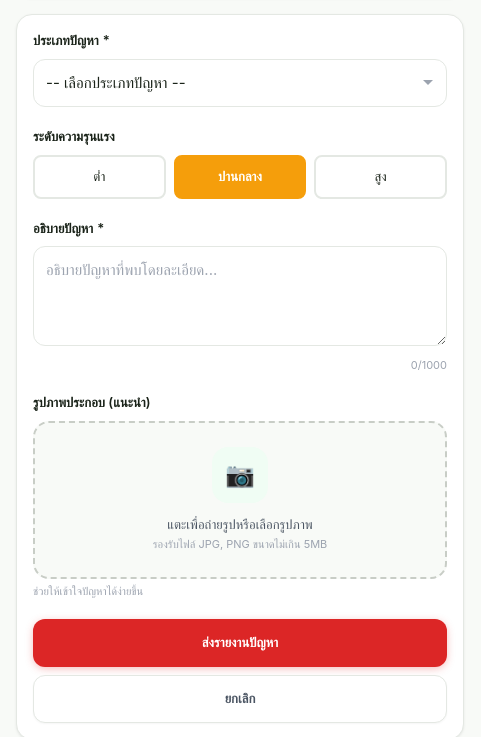
Scenario: ProblemReport › form validation › shows error when submitting without problem type
(page scrolled)
Click the button "ส่งรายงานปัญหา".
click(240, 643)  # box x1=33 y1=619 x2=447 y2=667
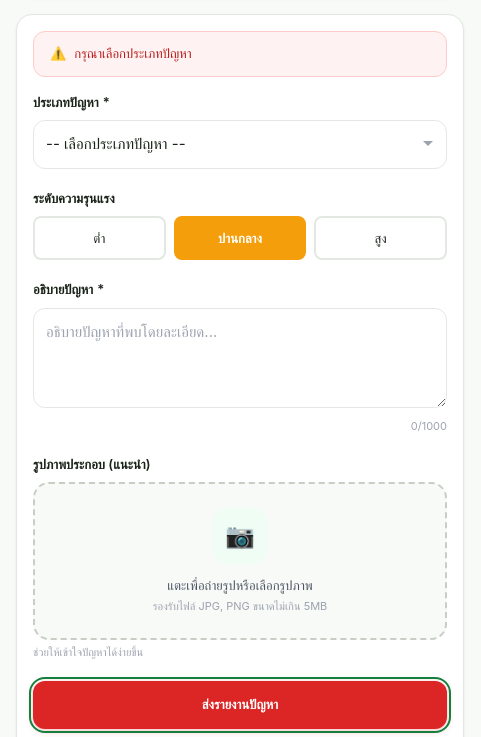
Check: the message reads "กรุณาเลือกประเภทปัญหา", box x1=74 y1=45 x2=192 y2=61
